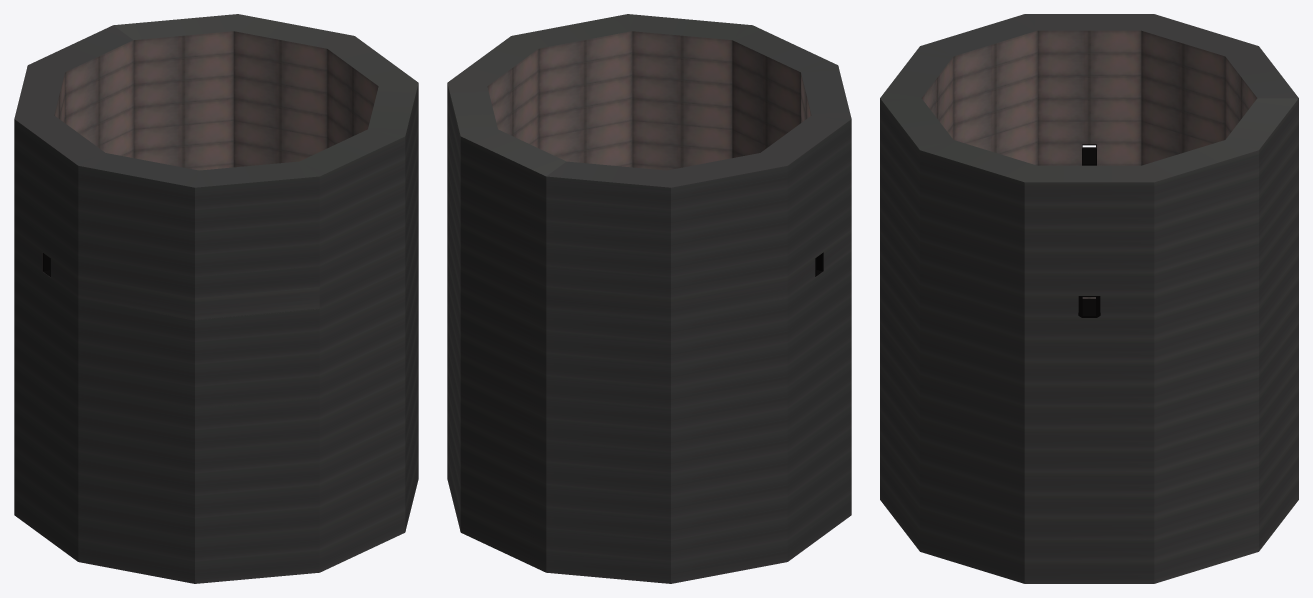
The model's file is TermProject_Arena_walls.fbx.
3 renders of one model, left to right at view 1: azimuth 30°, elevation 25°; view 2: azimuth 150°, elevation 25°; view 3: azimuth 270°, elevation 25°, orthographic.
Visible parts, largest first — view 1: Cylinder.026; view 2: Cylinder.026; view 3: Cylinder.026.
Part boxes in pixels (bbox=[...]): Cylinder.026: bbox=[14, 14, 418, 583]; Cylinder.026: bbox=[447, 14, 851, 583]; Cylinder.026: bbox=[880, 14, 1298, 583].
Bounding box in the file's own units: 11129 × 12367 × 11690.
